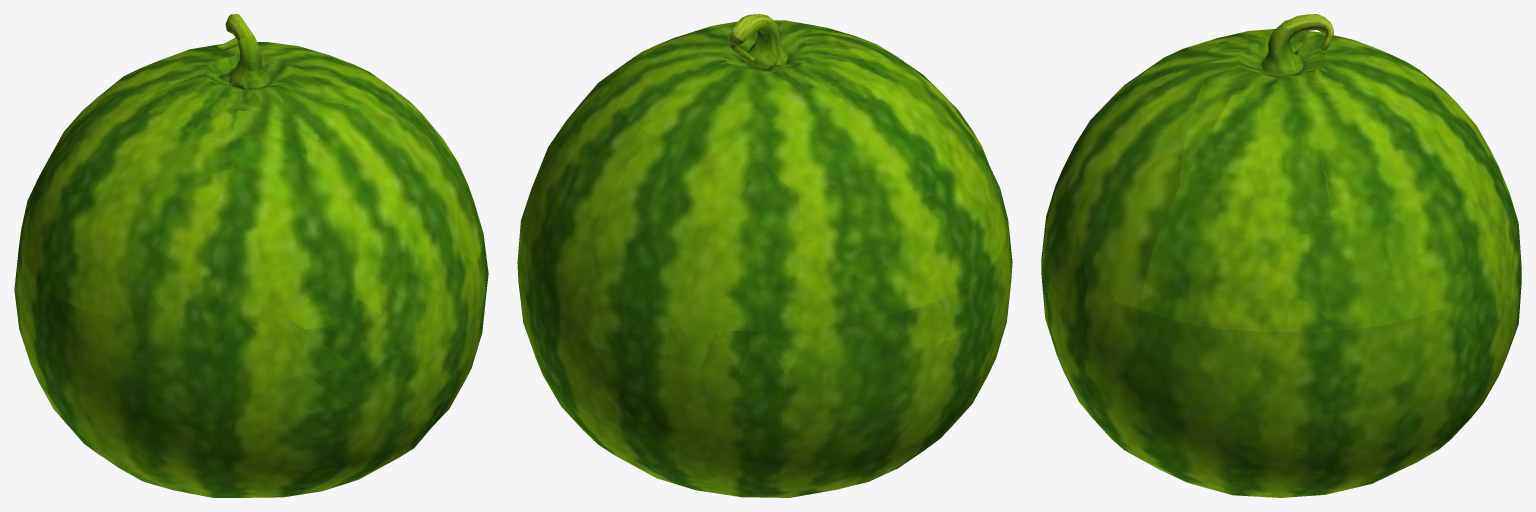
File: melon.glb
3 views of the same model, side by side, from view 1: azimuth 30°, elevation 25°; view 2: azimuth 150°, elevation 25°; view 3: azimuth 270°, elevation 25° (orthographic). The views are drawn at different scales.
Bounding box in the file's own units: 1 × 0.9922 × 1.
1 material, 1 textured.
